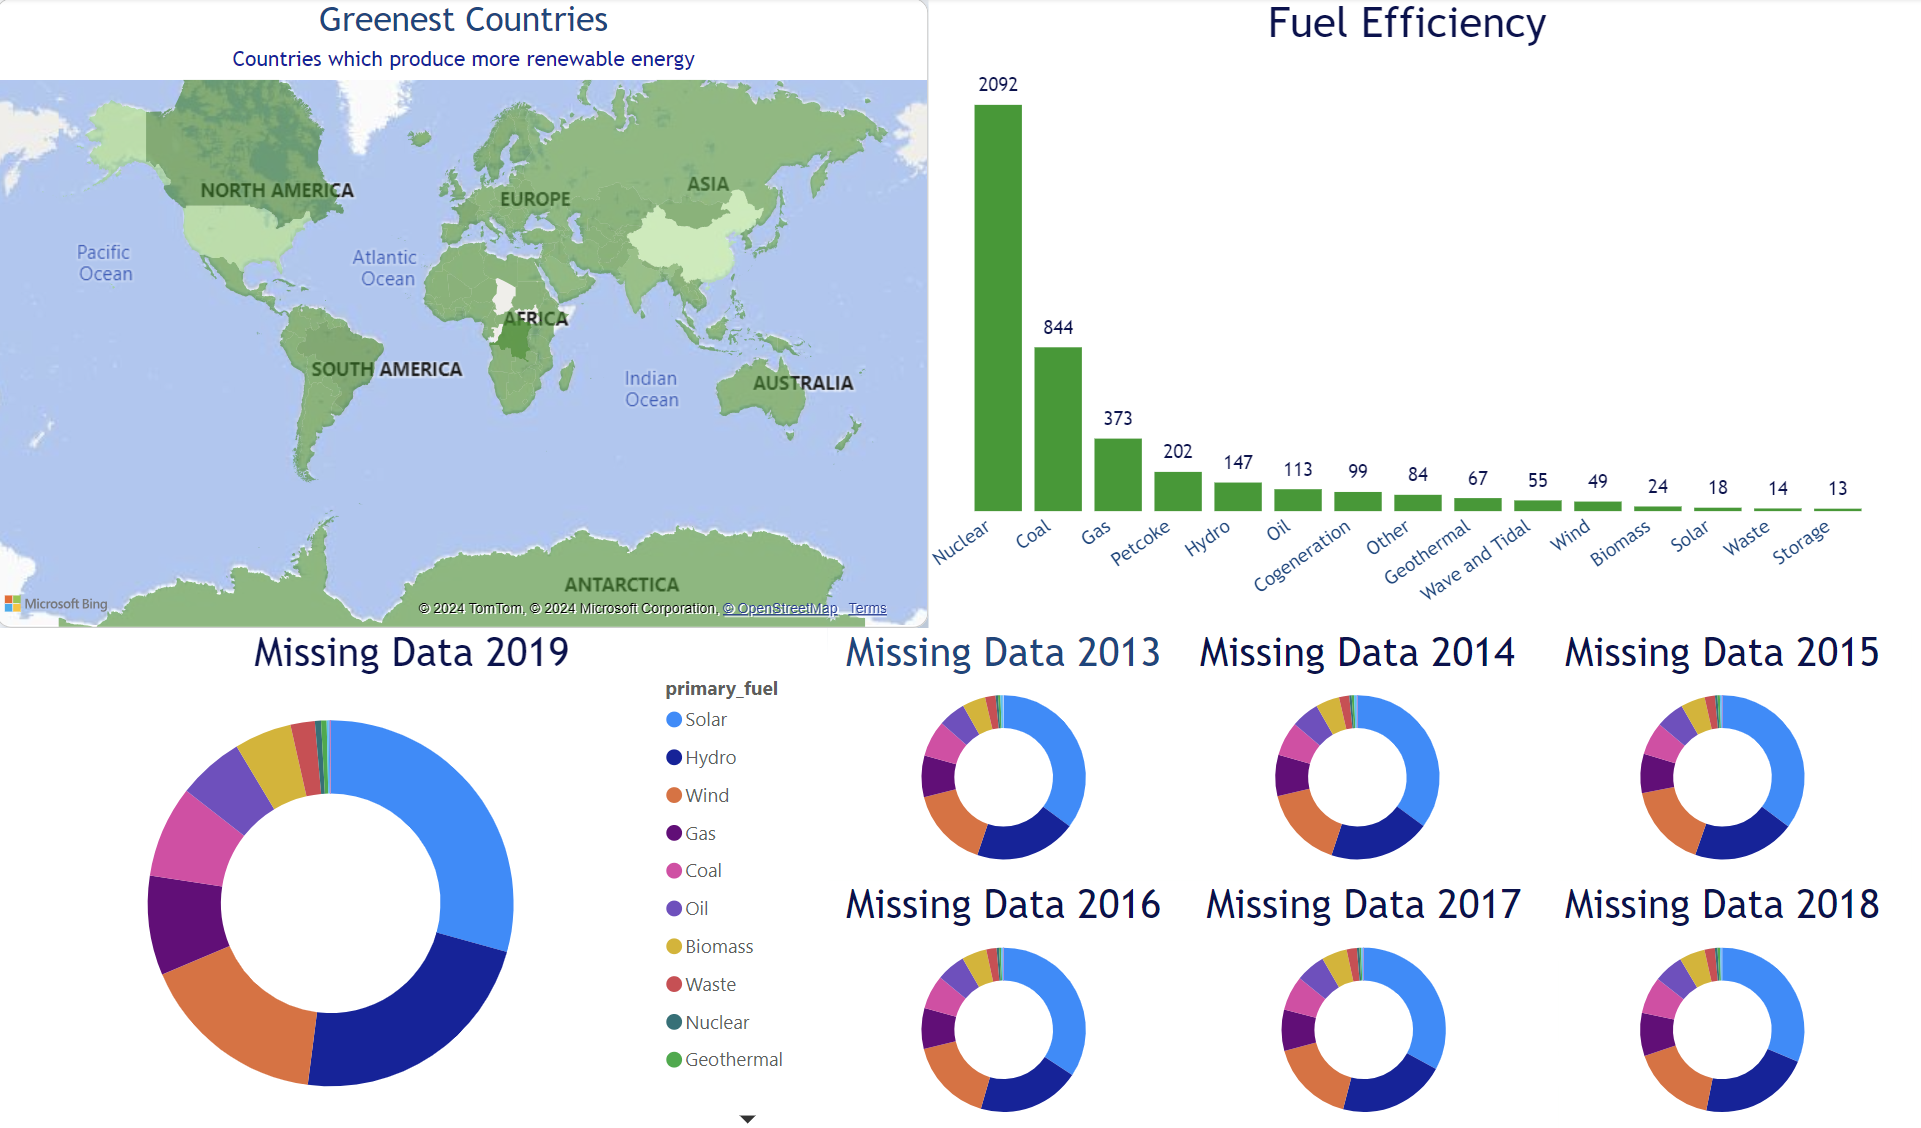

What the dashboard file says about the page in this screenshot:
{"tool":"powerbi","page":{"name":"Page 1","canvas":[1280,720],"ordinal":0},"visuals":[{"type":"filledMap","title":"Greenest Countries","fields":{"Category":["power_plant country_capacity_balance.country_long"]},"box":[0,0,592,400],"z":0},{"type":"clusteredColumnChart","title":"Fuel Efficiency","fields":{"Category":["power_plant fuel_efficiency.primary_fuel"],"Y":["Sum(power_plant fuel_efficiency.fuel_efficiency)"]},"box":[592,0,608,400],"z":1000},{"type":"donutChart","title":"Missing Data 2013","fields":{"Category":["power_plant missing_data_2013.primary_fuel"],"Y":["Sum(power_plant missing_data_2013.missing_count)"]},"box":[528,400,224,160],"z":3000},{"type":"donutChart","title":"Missing Data 2015","fields":{"Category":["power_plant missing_data_2015.primary_fuel"],"Y":["Sum(power_plant missing_data_2015.missing_count)"]},"box":[976,400,240,160],"z":4000},{"type":"donutChart","title":"Missing Data 2014","fields":{"Y":["Sum(power_plant missing_data_2014.missing_count)"],"Category":["power_plant missing_data_2014.primary_fuel"]},"box":[752,400,224,160],"z":5000},{"type":"donutChart","title":"Missing Data 2016","fields":{"Category":["power_plant missing_data_2016.primary_fuel"],"Y":["Sum(power_plant missing_data_2016.missing_count)"]},"box":[528,560,224,144],"z":6000},{"type":"donutChart","title":"Missing Data 2017","fields":{"Category":["power_plant missing_data_2017.primary_fuel"],"Y":["Sum(power_plant missing_data_2017.missing_count)"]},"box":[992,560,224,160],"z":6001},{"type":"donutChart","title":"Missing Data 2018","fields":{"Category":["power_plant missing_data_2018.primary_fuel"],"Y":["Sum(power_plant missing_data_2018.missing_count)"]},"box":[768,560,208,144],"z":6002},{"type":"donutChart","title":"Missing Data 2019","fields":{"Category":["power_plant missing_data_2019.primary_fuel"],"Y":["Sum(power_plant missing_data_2019.missing_count)"]},"box":[0,400,528,320],"z":6003}]}

Visuals, with their boxes on the page's 1280x720 design canvas (x1, y1, x2, y2). These are canvas units, not pixel positions in the 1921x1128 screenshot, which may show the page scaled, cropped or inside an application window:
"Greenest Countries" filledMap: box(0, 0, 592, 400)
"Fuel Efficiency" clusteredColumnChart: box(592, 0, 1200, 400)
"Missing Data 2013" donutChart: box(528, 400, 752, 560)
"Missing Data 2015" donutChart: box(976, 400, 1216, 560)
"Missing Data 2014" donutChart: box(752, 400, 976, 560)
"Missing Data 2016" donutChart: box(528, 560, 752, 704)
"Missing Data 2017" donutChart: box(992, 560, 1216, 720)
"Missing Data 2018" donutChart: box(768, 560, 976, 704)
"Missing Data 2019" donutChart: box(0, 400, 528, 720)
